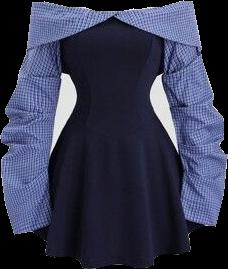Bodice: (61, 5, 161, 138)
Hemline: (23, 218, 207, 268)
Neckline: (60, 5, 161, 13)
Skirt: (24, 117, 205, 268)
Sleeve: (0, 2, 122, 234), (114, 1, 227, 226)
Sleeveline: (60, 12, 114, 40), (111, 15, 164, 40), (26, 36, 66, 51), (161, 37, 201, 48)
Waistline: (68, 115, 156, 141)
